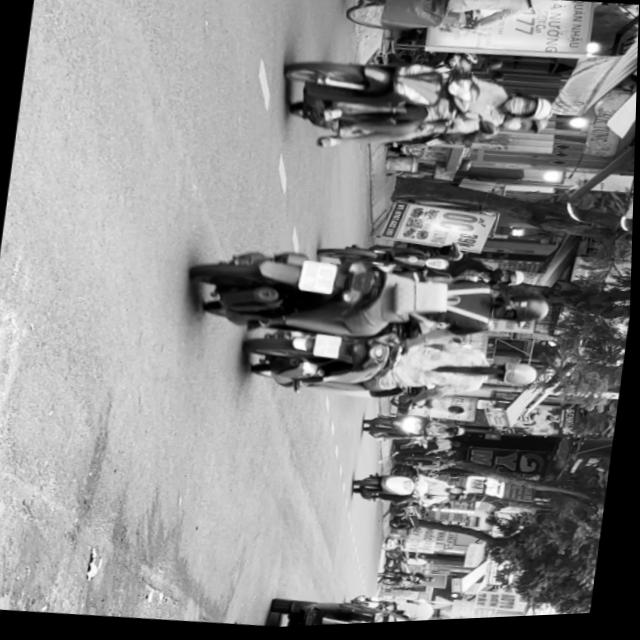helmet: (492, 292, 556, 331), (503, 94, 557, 127), (490, 361, 543, 392), (503, 117, 551, 139), (492, 270, 527, 290)
licenseplate: (185, 231, 563, 368), (272, 40, 561, 172), (241, 317, 549, 422)
nohelmet: (301, 261, 340, 295), (316, 334, 344, 360)
